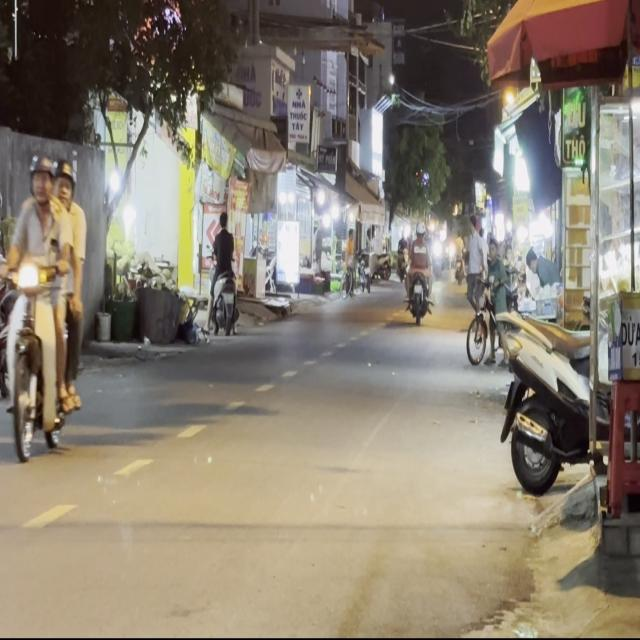helmet: (27, 153, 54, 204), (53, 158, 74, 203)
licenseplate: (0, 150, 87, 462)
